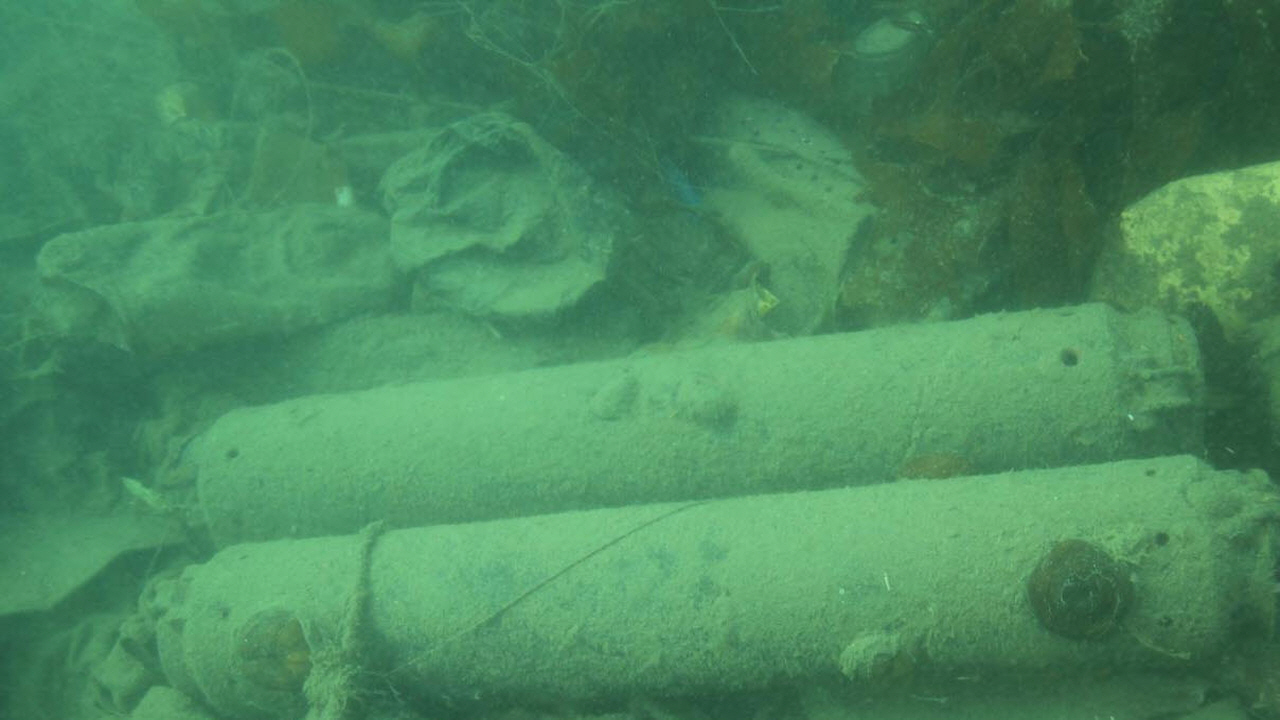bundle of ropes: (299, 513, 430, 720)
eel fish trap: (149, 447, 1280, 716), (166, 297, 1205, 550)
